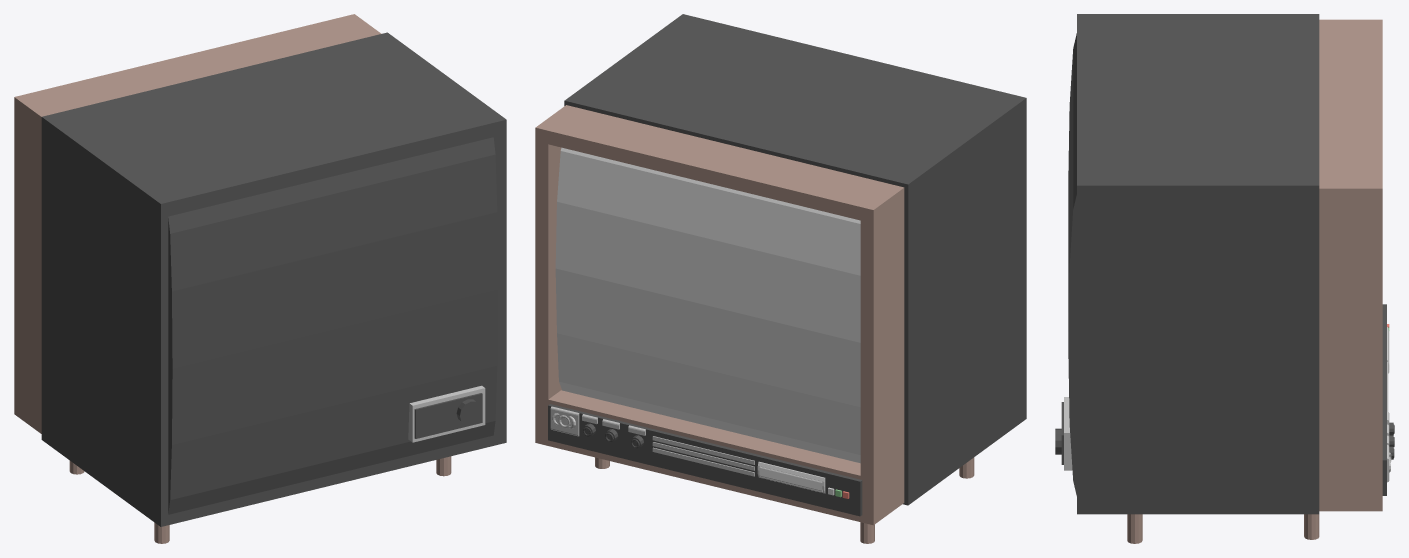
The model's file is asset.gltf.
The picture shows the model from 3 angles, left to right: view 1: azimuth 30°, elevation 25°; view 2: azimuth 150°, elevation 25°; view 3: azimuth 270°, elevation 25°; orthographic projection. The views are drawn at different scales.
Visible parts, largest first — view 1: mesh_1644547169, mesh_693330270, mesh_2129653897, mesh_684330329, mesh_329165408, mesh_954181115; view 2: mesh_693330270, mesh_1626004127, mesh_684330329, mesh_2129653897, mesh_970267179, mesh_1004929428, mesh_1085757518; view 3: mesh_693330270, mesh_1085757518, mesh_684330329, mesh_1644547169, mesh_970267179, mesh_2129653897, mesh_954181115, mesh_1131956557.
Part boxes in pixels (x1,y1,x2,y2): mesh_1644547169: (168,137,497,514); mesh_693330270: (41,32,506,526); mesh_2129653897: (14,94,53,433); mesh_684330329: (14,14,381,113); mesh_329165408: (414,393,482,438); mesh_954181115: (408,385,485,442); mesh_693330270: (564,14,1026,505); mesh_1626004127: (555,147,860,463); mesh_684330329: (535,105,890,222); mesh_2129653897: (860,184,904,524); mesh_970267179: (548,404,862,516); mesh_1004929428: (548,390,873,525); mesh_1085757518: (535,133,561,445); mesh_693330270: (1077,14,1319,514); mesh_1085757518: (1319,194,1382,511); mesh_684330329: (1319,26,1382,202); mesh_1644547169: (1068,33,1076,495); mesh_970267179: (1382,304,1386,495); mesh_2129653897: (1319,19,1382,26); mesh_954181115: (1064,397,1072,470); mesh_1131956557: (1127,514,1142,543).
Bounding box in the file's own units: 1.86 × 1.88 × 1.56.
